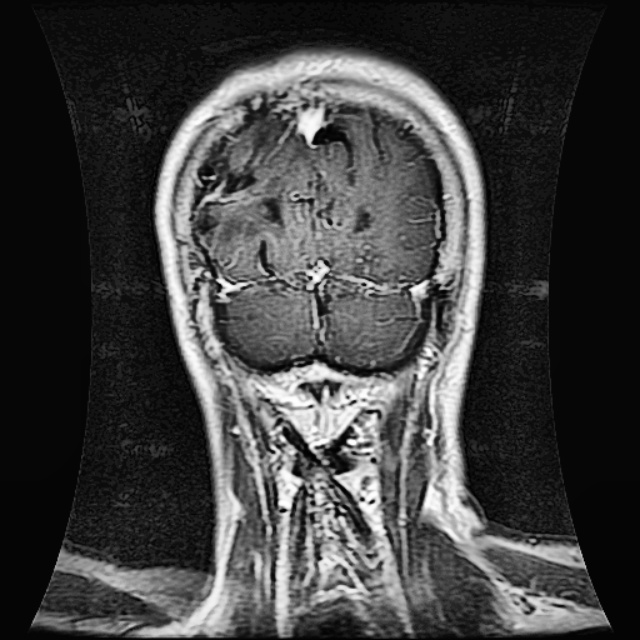Meningioma: (195, 113, 292, 264)
